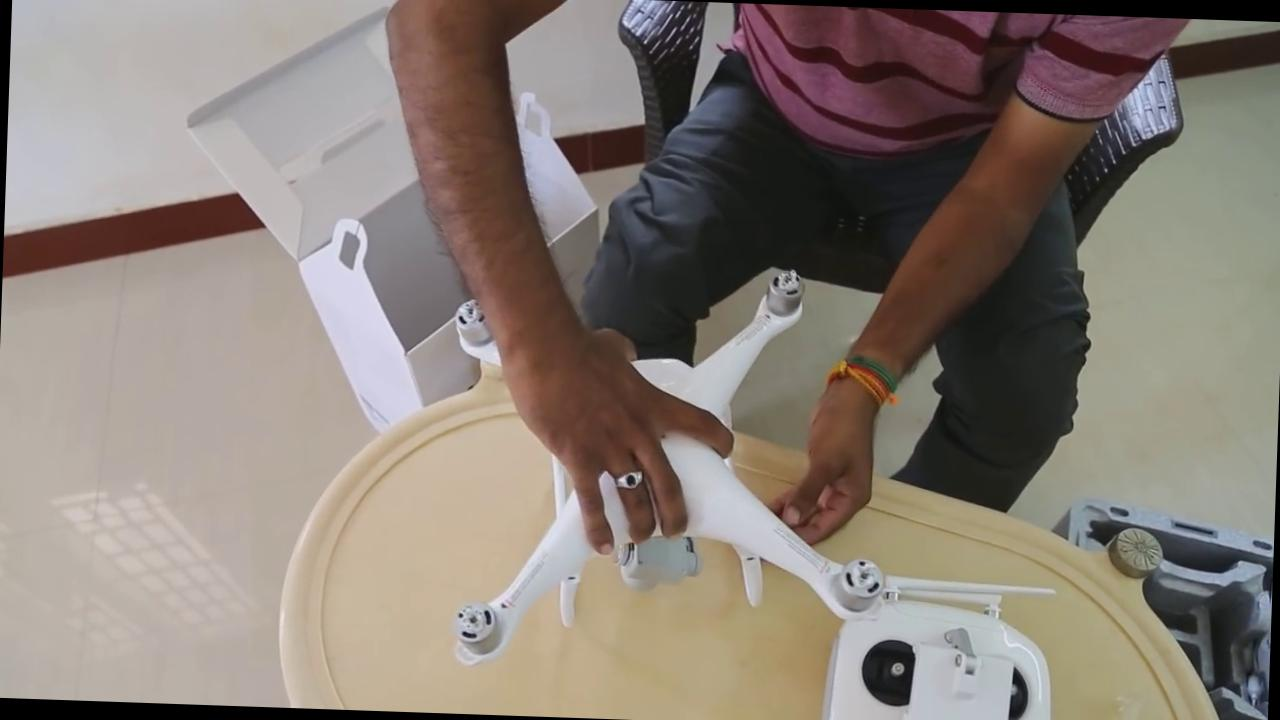drone: (426, 255, 900, 673)
